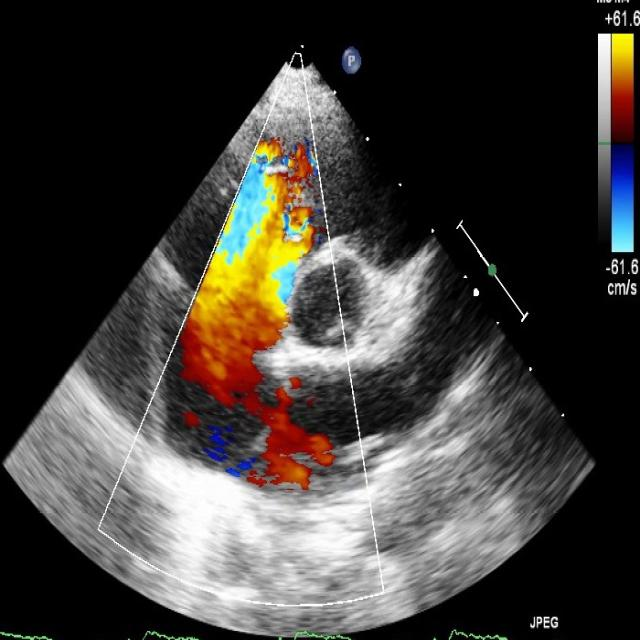ASDType2: (228, 344, 337, 493)
